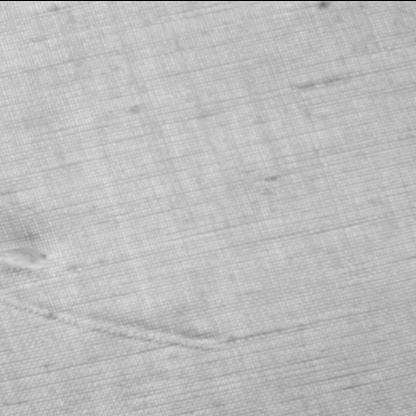objects: (0, 290, 220, 349), (0, 241, 47, 273)
